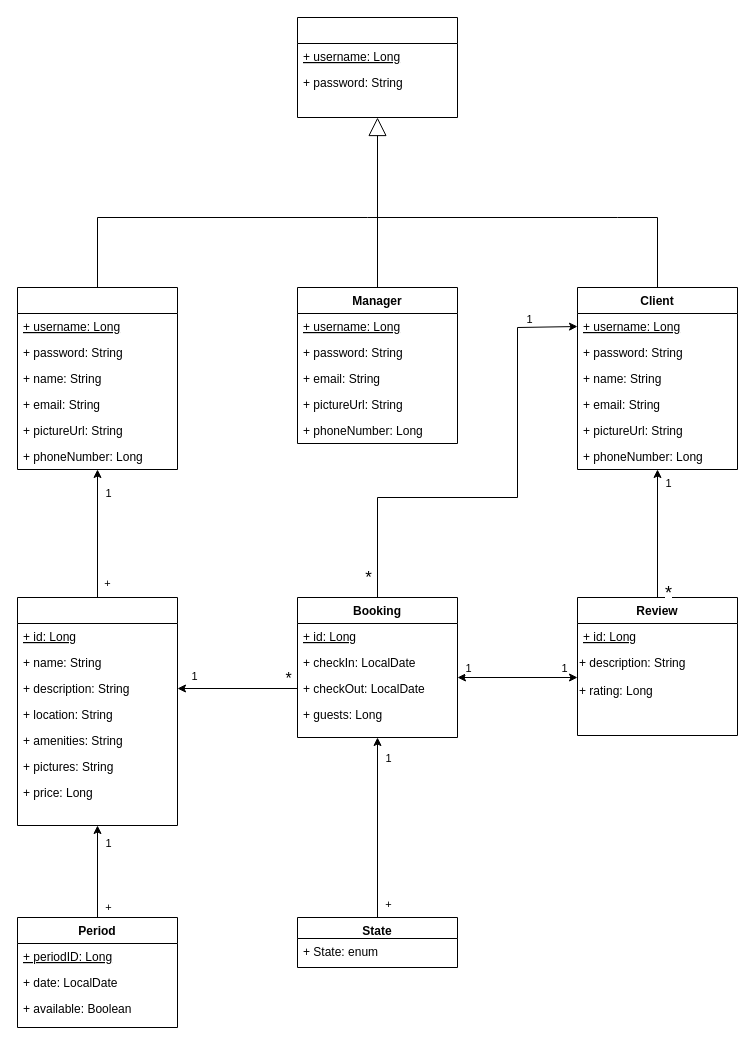
The diagram is 755 pixels wide and 1045 high, and some of its shapes have lost their labels. The box of each missing label's shape, as (x1, y1, x2, y2) in pixels:
Appartment: (16, 596, 178, 826)
Owner: (16, 286, 178, 470)
Person: (296, 16, 458, 118)
